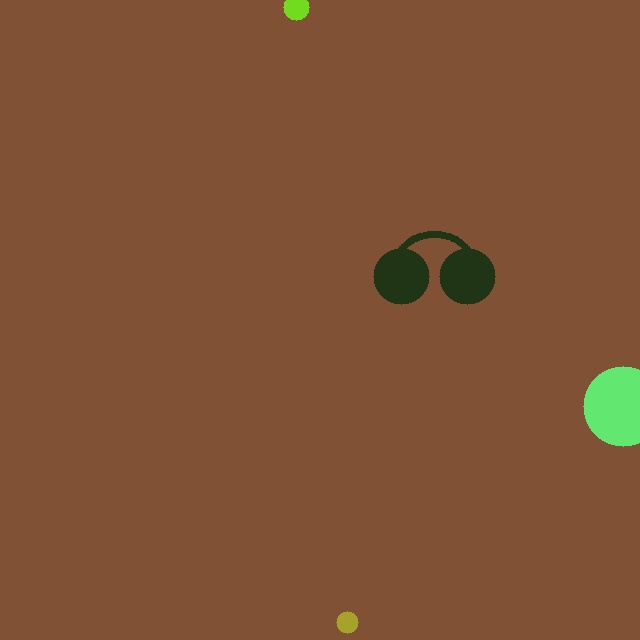over_ear: (369, 224, 499, 308)
